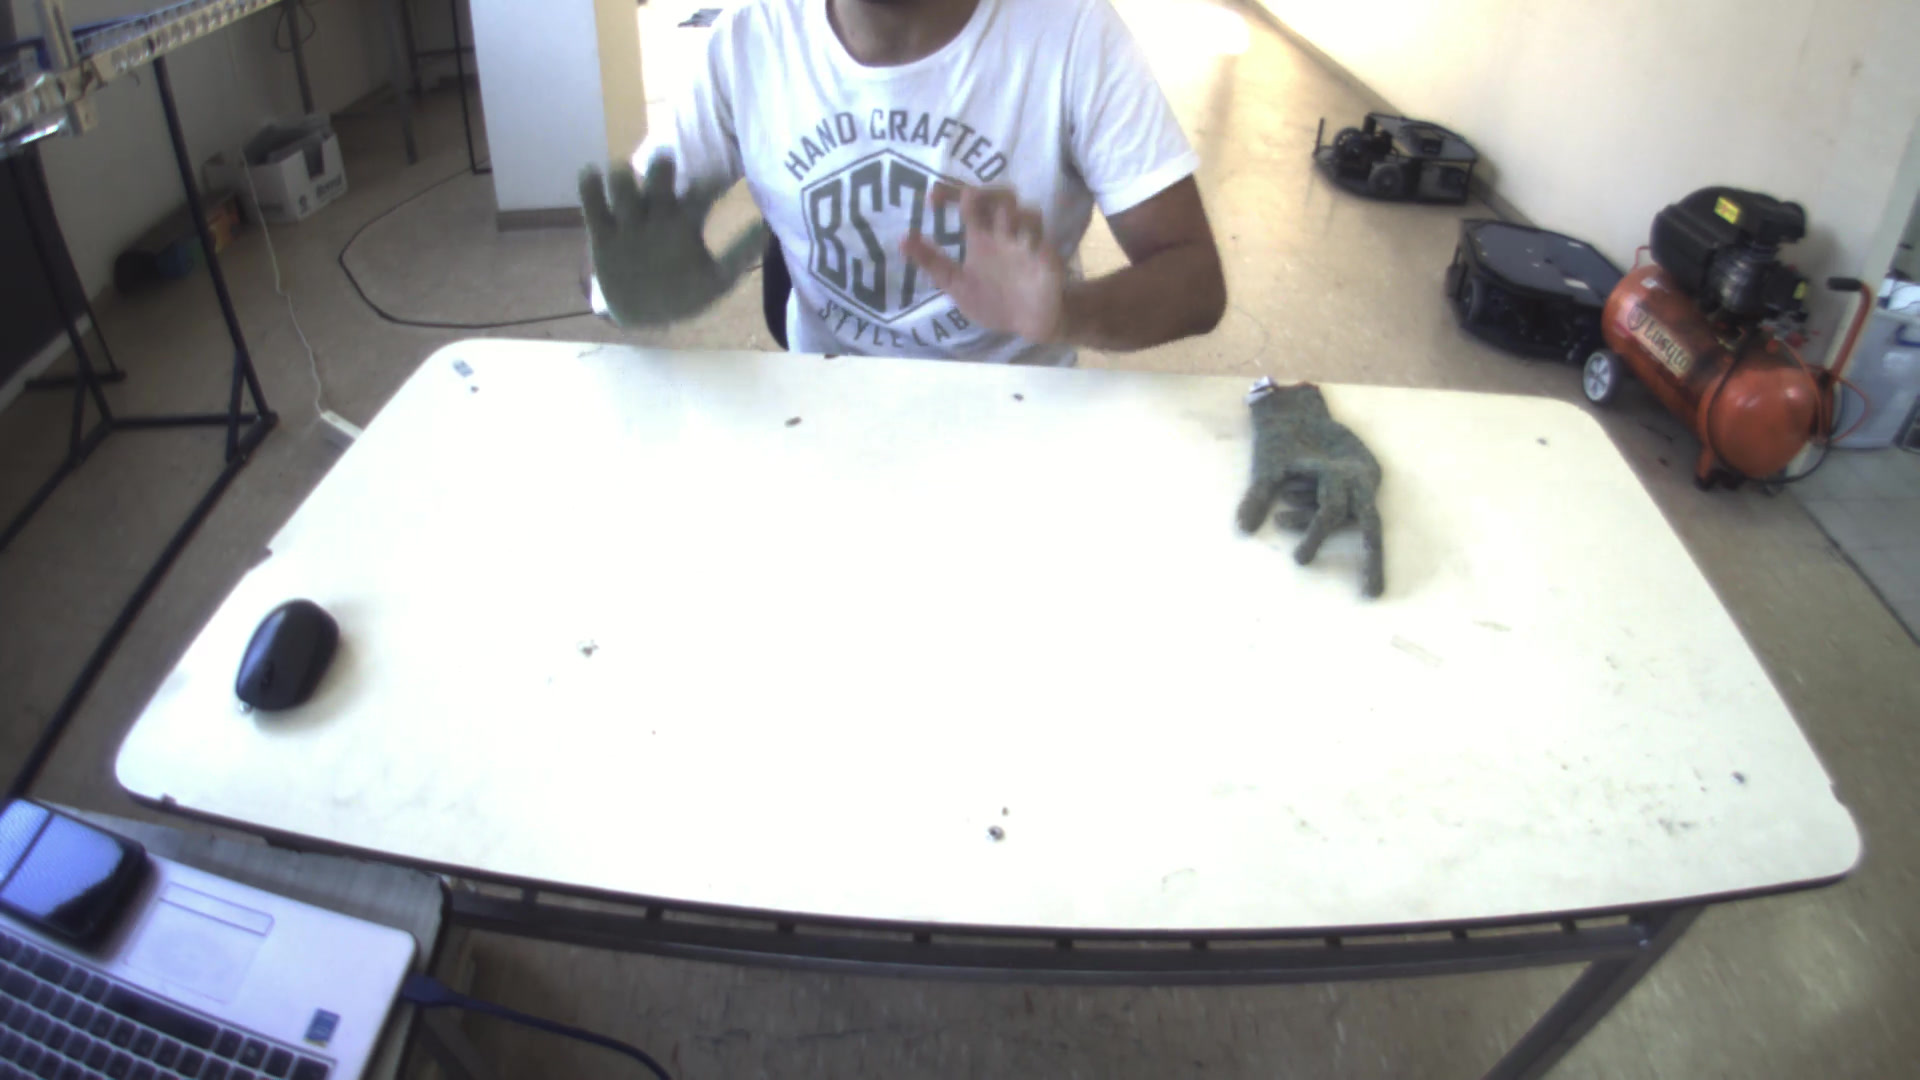hand: (559, 142, 742, 327), (881, 177, 1077, 334)
